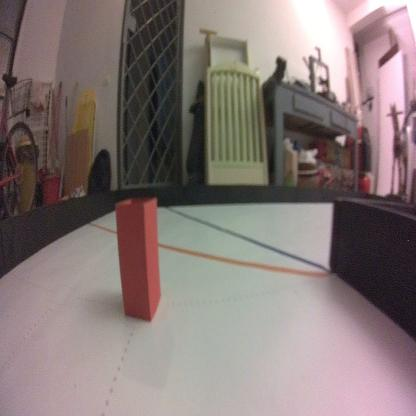red: (114, 197, 162, 322)
